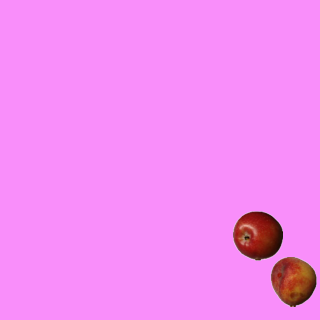Apple Braeburn: (232, 210, 282, 260)
Peach: (268, 256, 318, 306)
